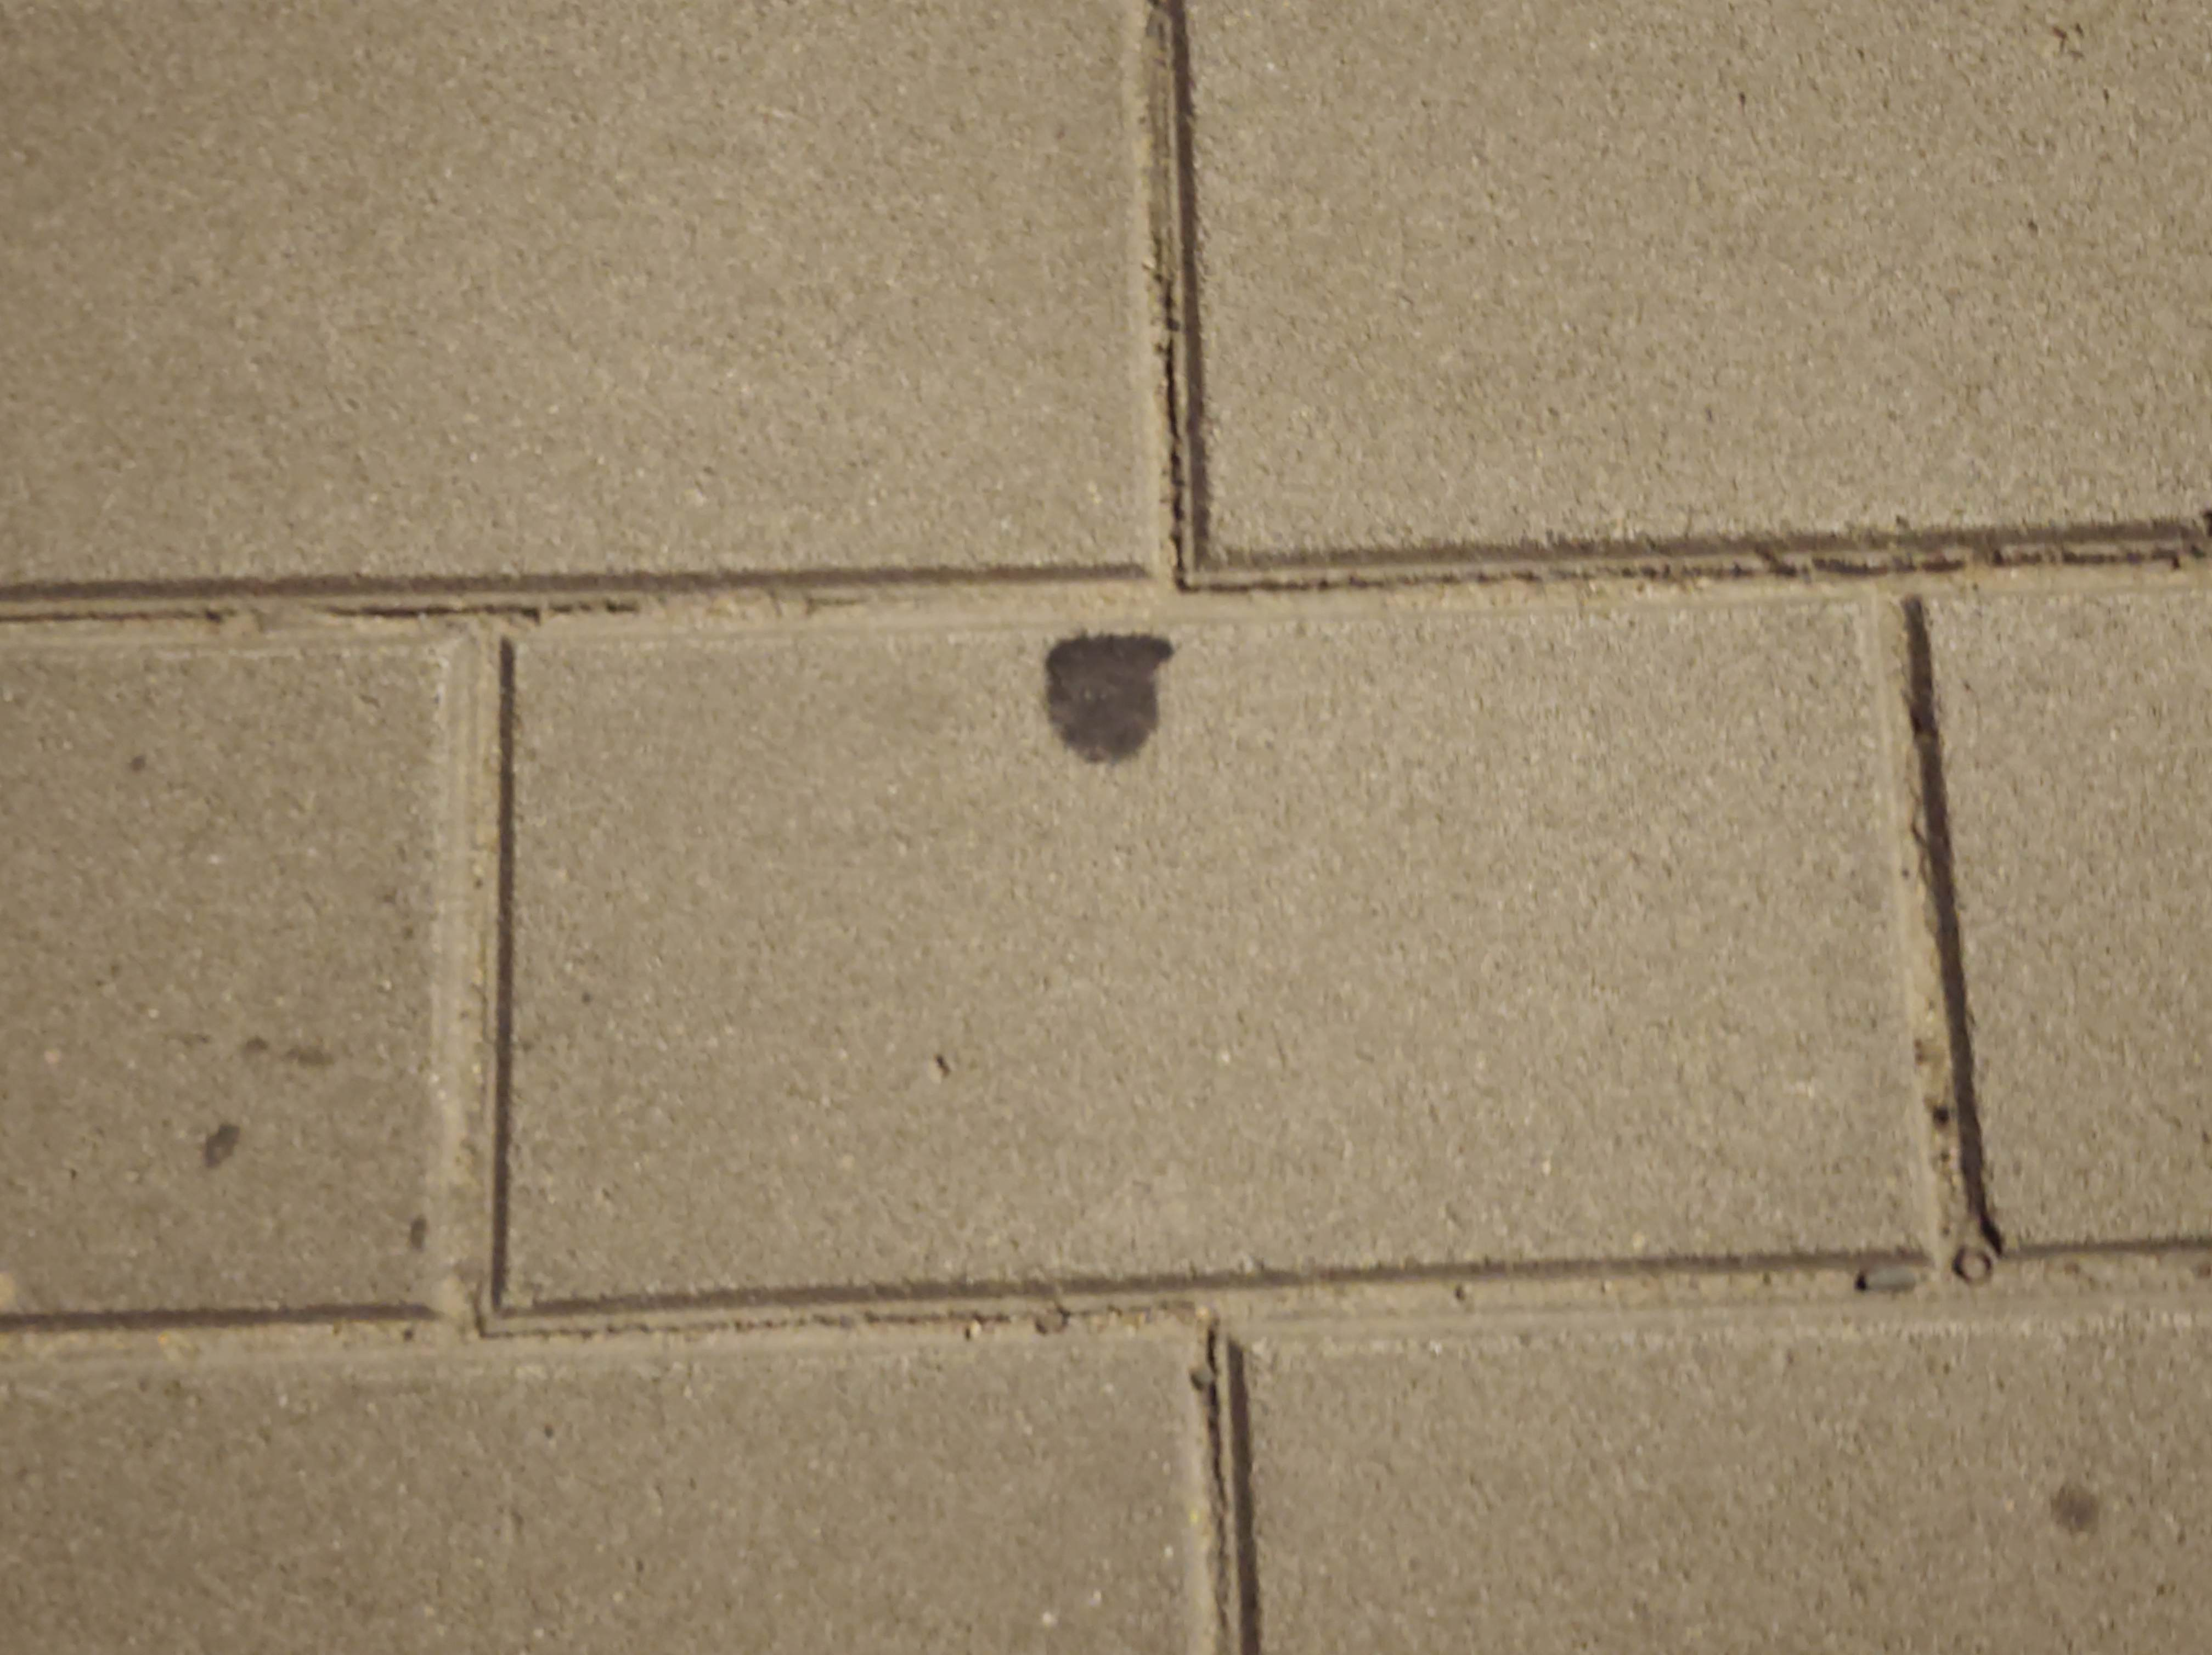grey spot: (1041, 626, 1176, 761)
